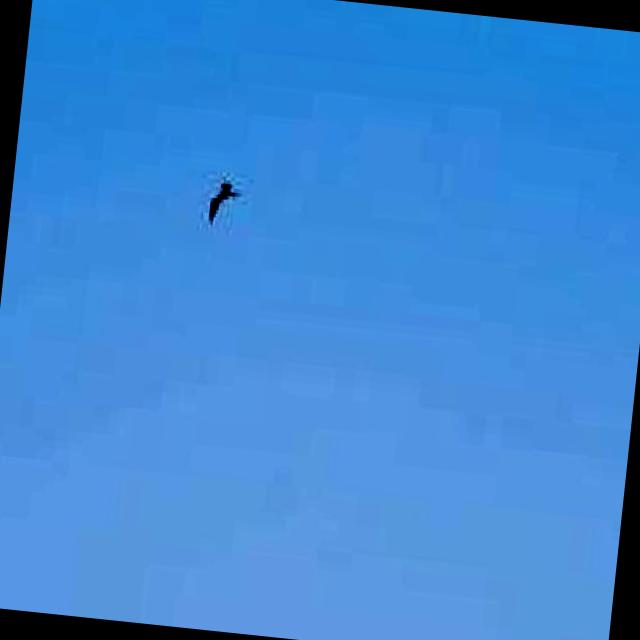bird: (203, 174, 246, 228)
